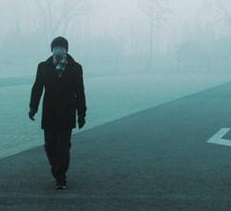person: (28, 35, 86, 191)
